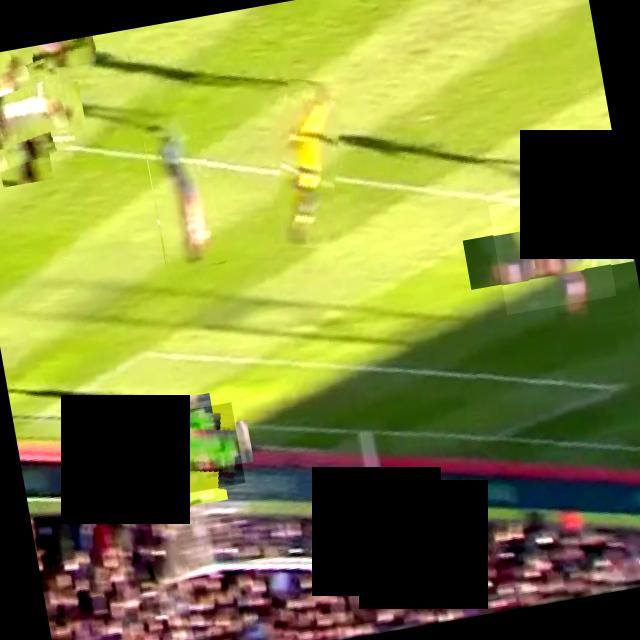goalkeeper: (149, 402, 245, 497)
referee: (0, 58, 74, 174)
soccer-player: (256, 73, 362, 255), (488, 186, 616, 314), (140, 112, 226, 273), (7, 35, 97, 78)
